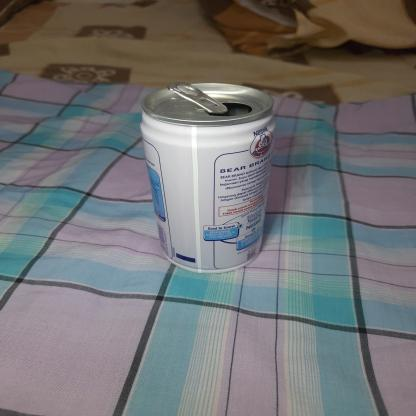mouse: (136, 75, 279, 274)
